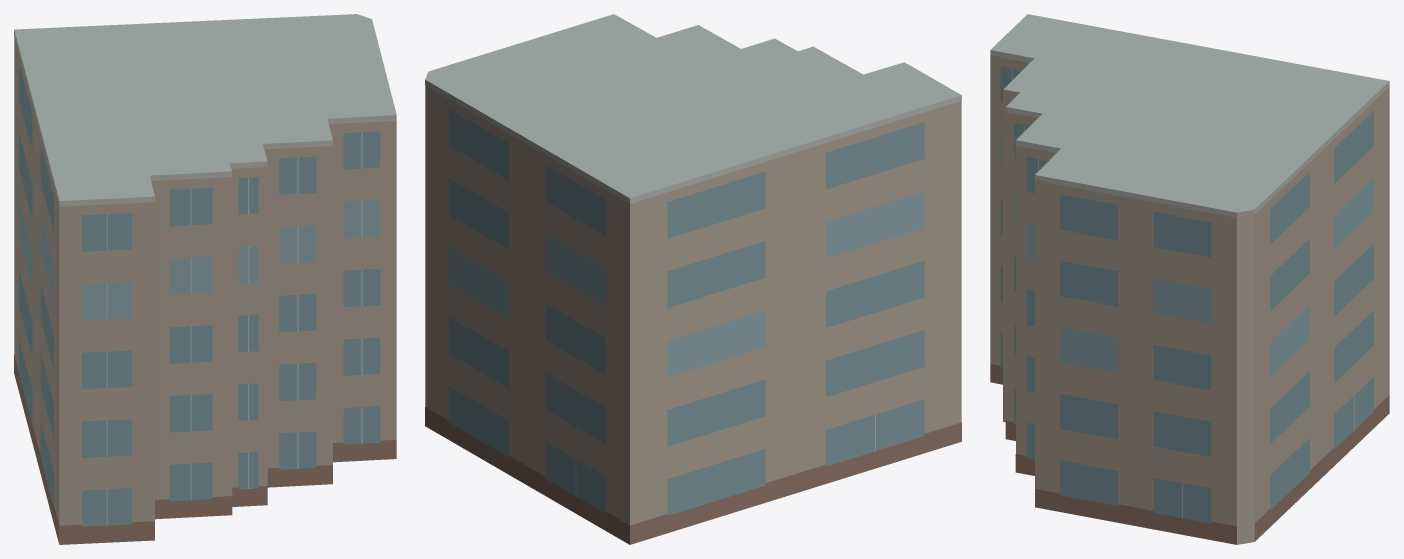
Rendered from survey-upis-32525938.glb.
The picture shows the model from 3 angles, left to right: view 1: azimuth 30°, elevation 25°; view 2: azimuth 150°, elevation 25°; view 3: azimuth 270°, elevation 25°; orthographic projection. The views are drawn at different scales.
Visible parts, largest first — view 1: survey-upis-32525938.tmp; view 2: survey-upis-32525938.tmp; view 3: survey-upis-32525938.tmp.
Boxes of the visible parts, <box> form: survey-upis-32525938.tmp: <box>14,14,396,544</box>; survey-upis-32525938.tmp: <box>425,14,961,544</box>; survey-upis-32525938.tmp: <box>990,14,1389,544</box>.
Size of the model in its own units: 19.3 by 15.05 by 16.4.
